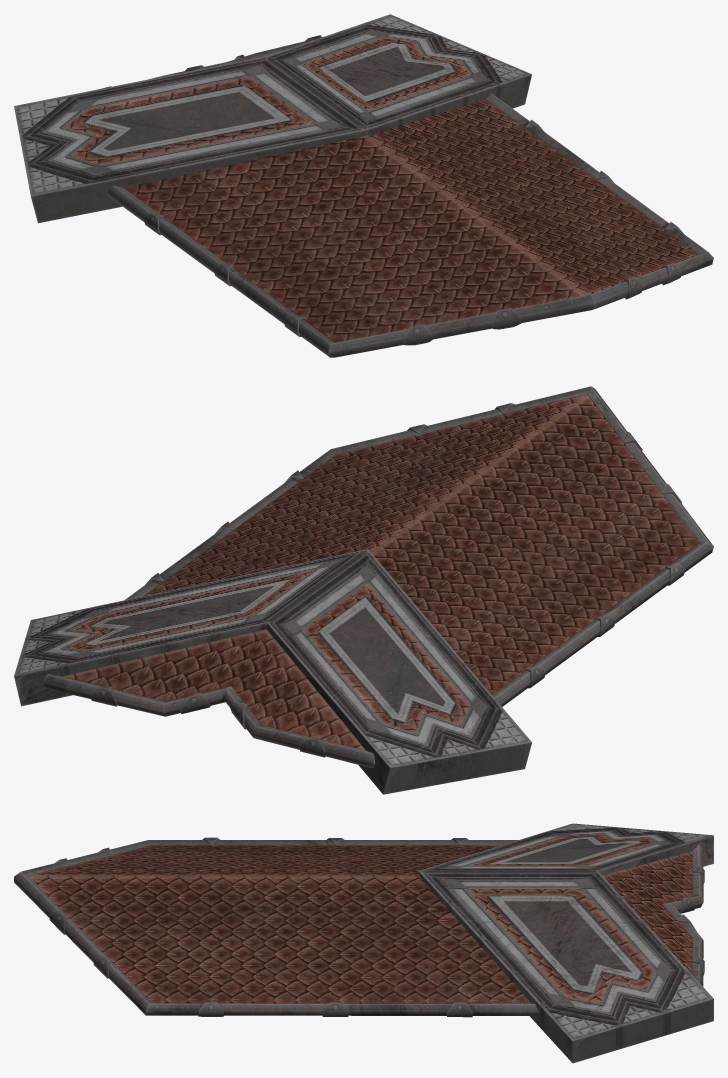
The model's file is sm_iron_shield_tower_b.fbx.
3 renders of one model, top to bottom at view 1: azimuth 30°, elevation 25°; view 2: azimuth 150°, elevation 25°; view 3: azimuth 270°, elevation 25°, orthographic. The views are drawn at different scales.
Visible parts, largest first — view 1: sm_iron_shield_tower_b; view 2: sm_iron_shield_tower_b; view 3: sm_iron_shield_tower_b.
Boxes of the visible parts, x1=… form: sm_iron_shield_tower_b: x1=14, y1=14, x2=713, y2=357; sm_iron_shield_tower_b: x1=14, y1=386, x2=713, y2=794; sm_iron_shield_tower_b: x1=14, y1=823, x2=713, y2=1063.
Bounding box in the file's own units: 0.8026 × 1.09 × 0.149.
1 material, 1 textured.
